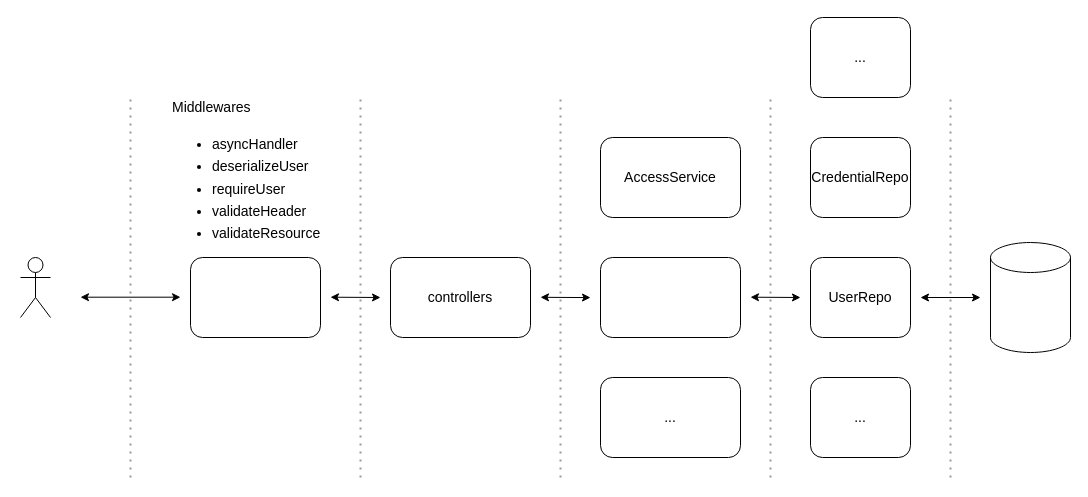
This 1088x497 diagram has some shape labels left out. Here are the shapes that lost their labels. From the top down, the box of each, then its label:
(20, 256, 50, 318): Client
(190, 256, 320, 338): routes
(600, 256, 740, 338): UserService
(990, 242, 1070, 352): MongoDB
